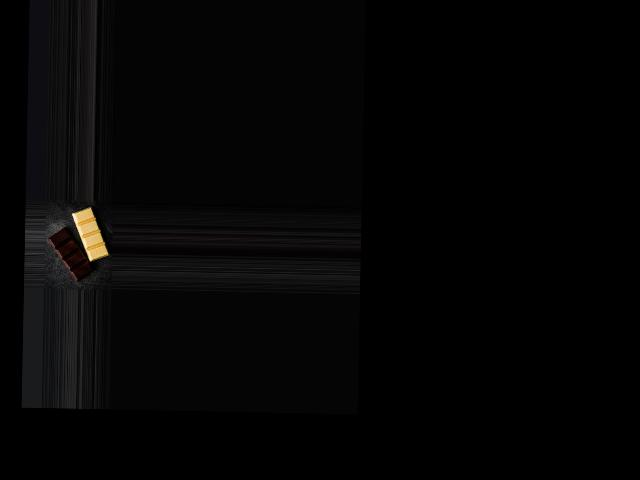chocolate: (48, 202, 109, 281)
